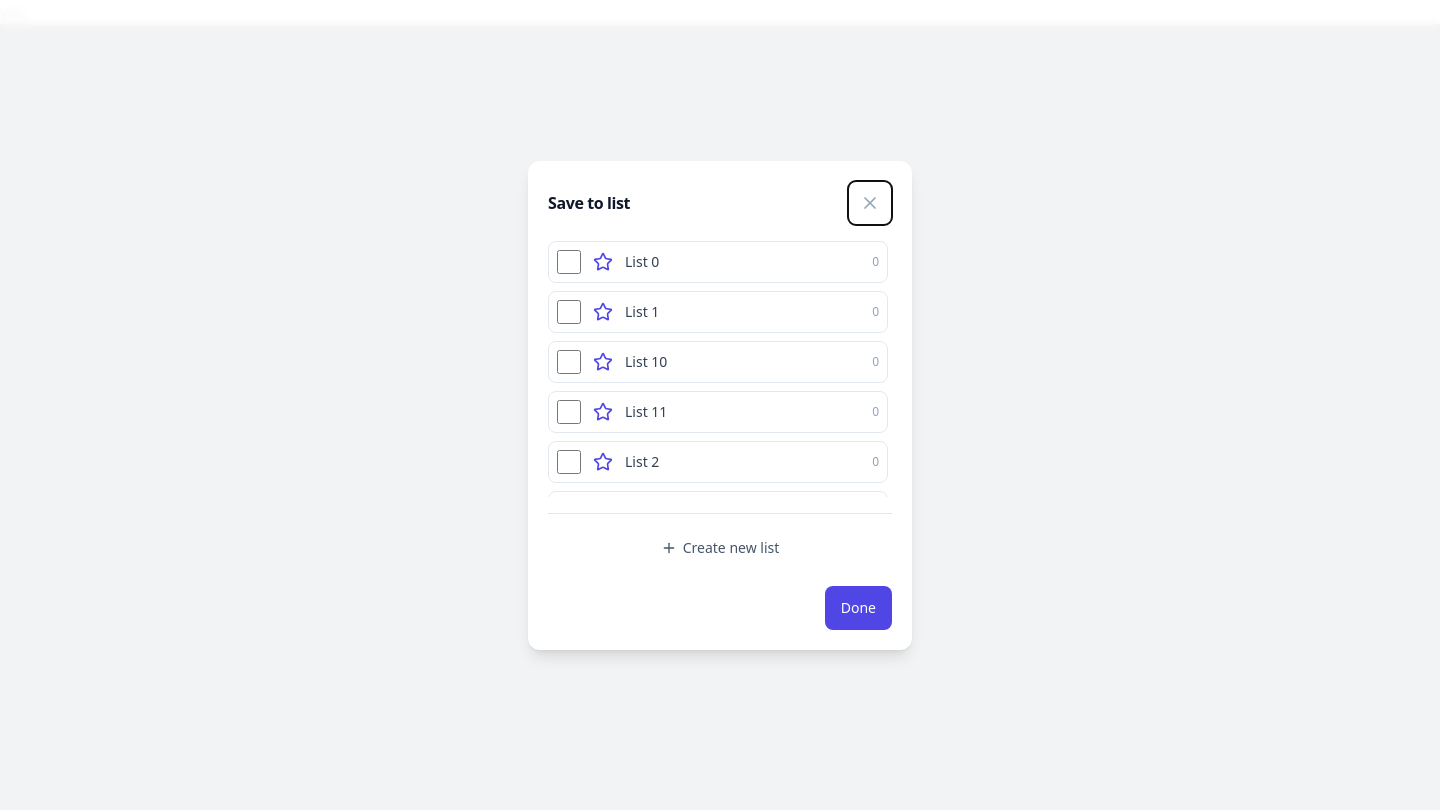
it: SaveToListDialog › shows many lists without a cap guard
Click the button "Create new list": coordinates (720, 548) [548,526,892,570]
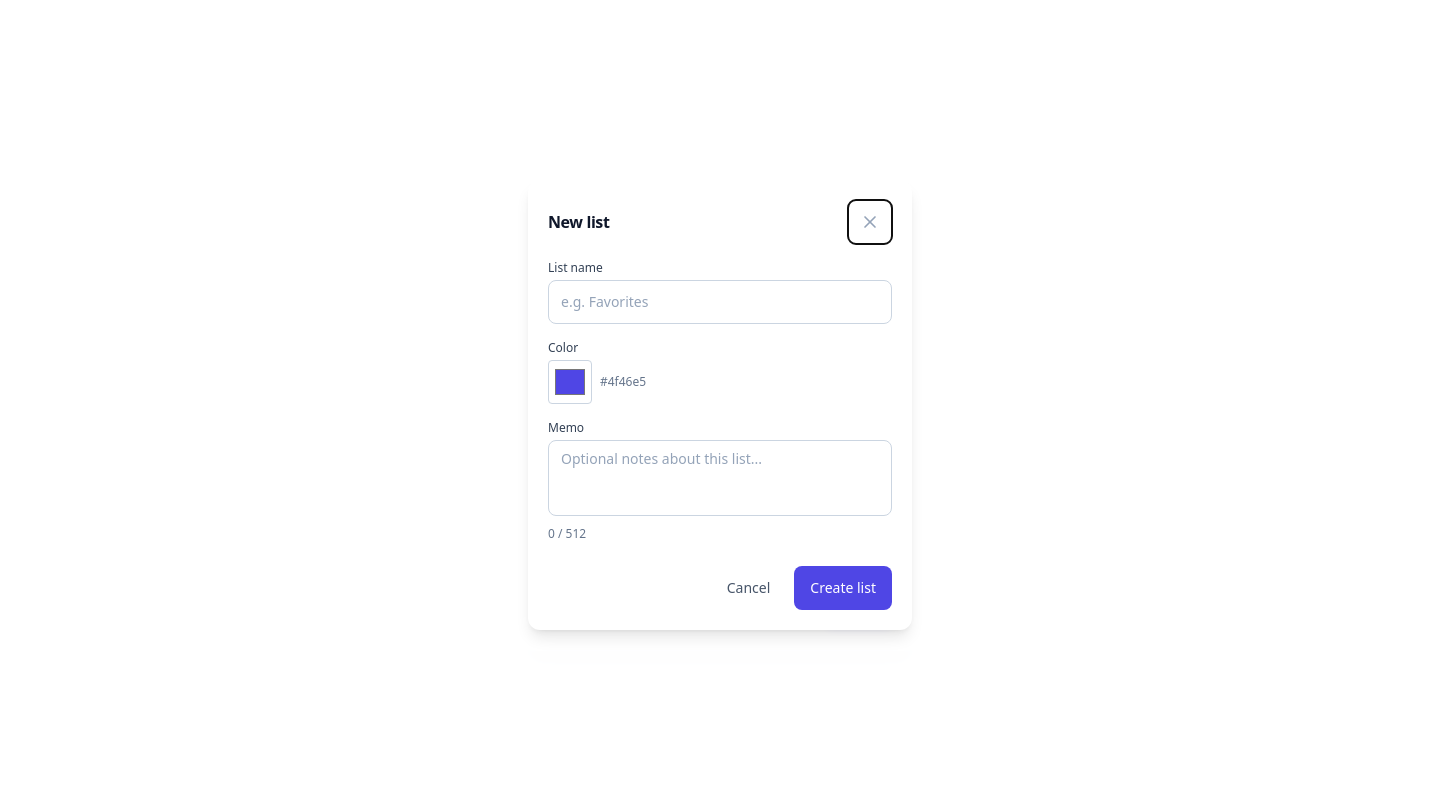
Check: the field labelled "List name" is shown, box [548,280,892,324]
